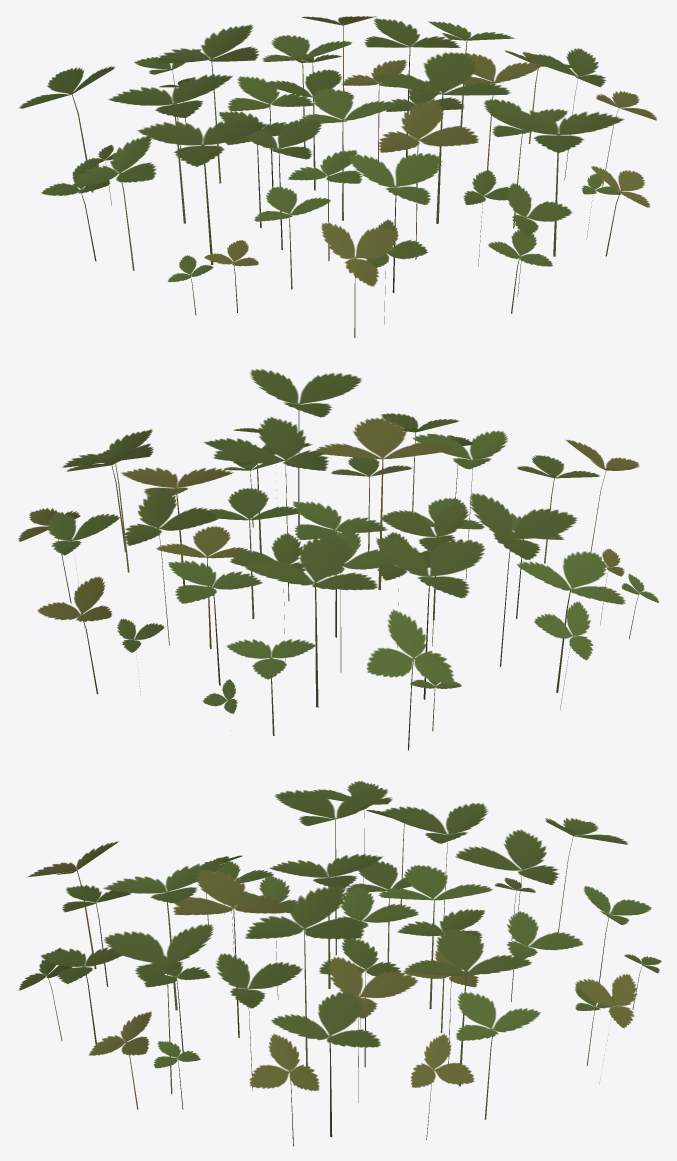
File: Strawberry_Cluster_3.glb
3 views of the same model, one above another, from view 1: azimuth 30°, elevation 25°; view 2: azimuth 150°, elevation 25°; view 3: azimuth 270°, elevation 25° (orthographic). The views are drawn at different scales.
Visible parts, largest first — view 1: Strawberry_Cluster_3; view 2: Strawberry_Cluster_3; view 3: Strawberry_Cluster_3.
Boxes of the visible parts, x1,y1,x2,y2 form: Strawberry_Cluster_3: (19, 16, 656, 337); Strawberry_Cluster_3: (18, 369, 658, 750); Strawberry_Cluster_3: (19, 781, 661, 1146).
Size of the model in its own units: 1.58 by 0.4039 by 1.51.
1 material, 1 textured.
